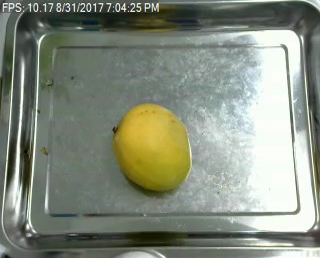Mango: (113, 100, 196, 195)
